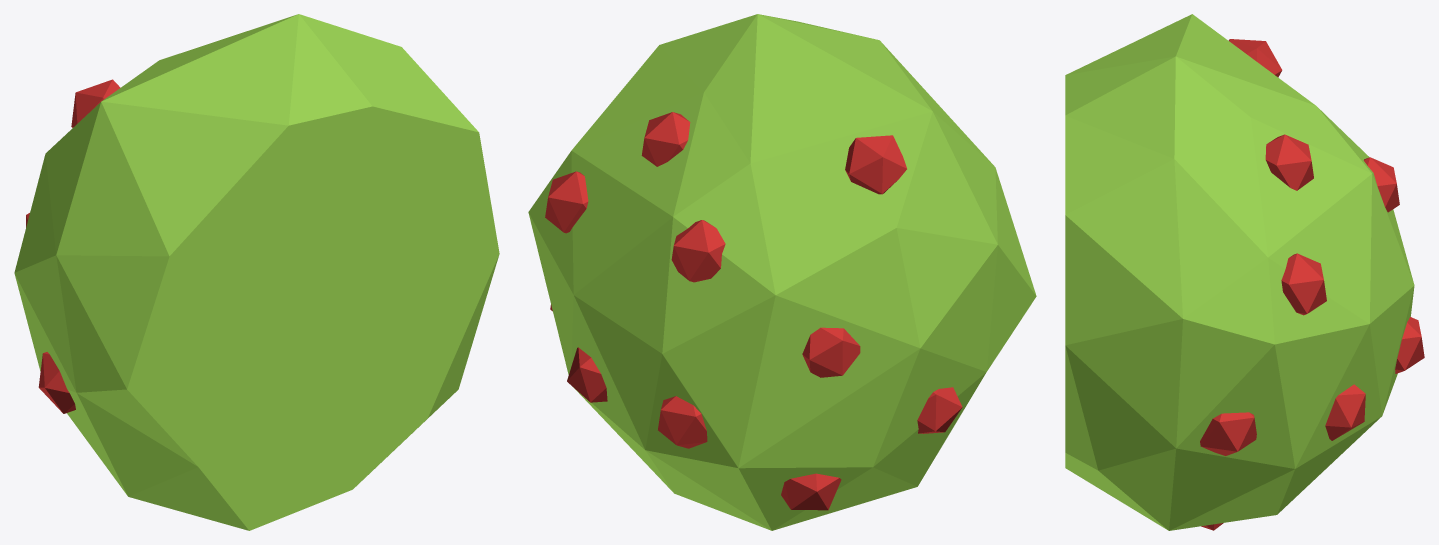
Rendered from Bush_2_Berry.fbx.
The picture shows the model from 3 angles, left to right: view 1: azimuth 30°, elevation 25°; view 2: azimuth 150°, elevation 25°; view 3: azimuth 270°, elevation 25°; orthographic projection. The views are drawn at different scales.
Visible parts, largest first — view 1: Bush_2_Berry; view 2: Bush_2_Berry; view 3: Bush_2_Berry.
Part boxes in pixels (x1=…): Bush_2_Berry: x1=14, y1=14, x2=499, y2=530; Bush_2_Berry: x1=528, y1=14, x2=1036, y2=530; Bush_2_Berry: x1=1065, y1=14, x2=1424, y2=530.
Bounding box in the file's own units: 229 × 242 × 173.
